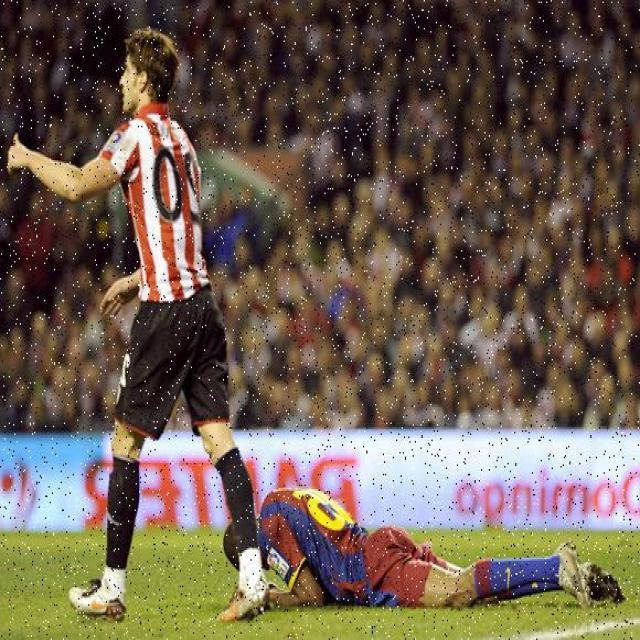fall: (232, 478, 621, 604)
